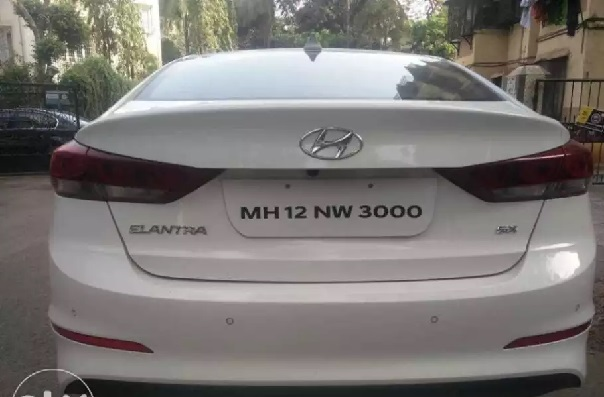licenseplate: (219, 177, 444, 241)
